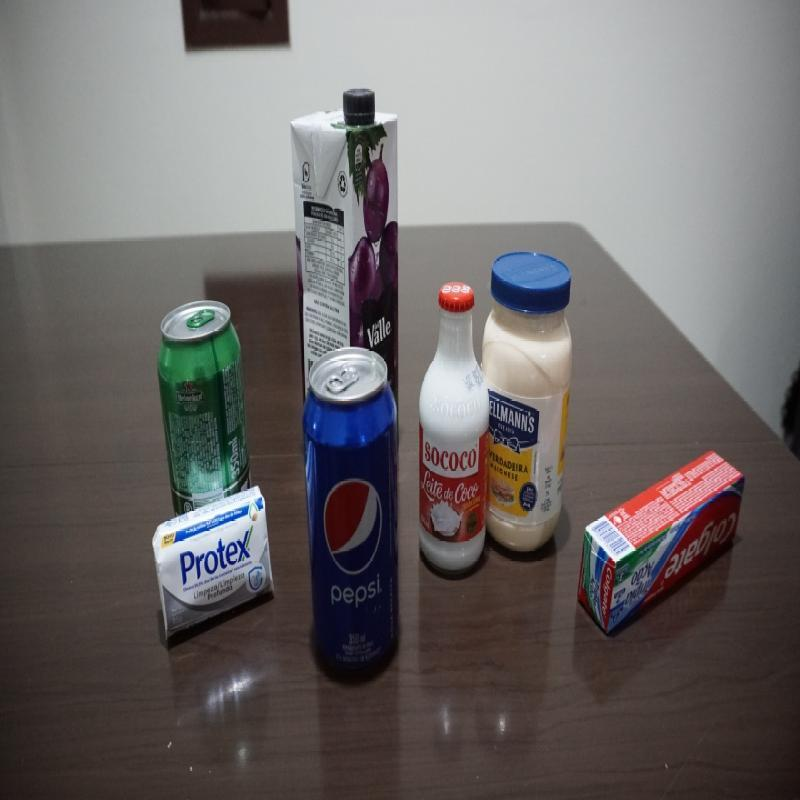Beer can: (157, 299, 251, 487)
Coconut Milk: (414, 276, 492, 577)
Mayonnaise: (492, 242, 568, 576)
Soap: (153, 488, 272, 637)
Soda can: (303, 350, 398, 672)
Toothpaste: (578, 448, 756, 630)
